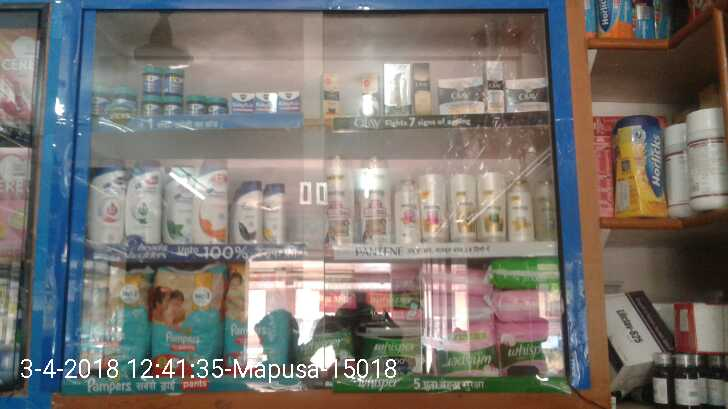vicks: (93, 60, 231, 114), (231, 88, 301, 114)
